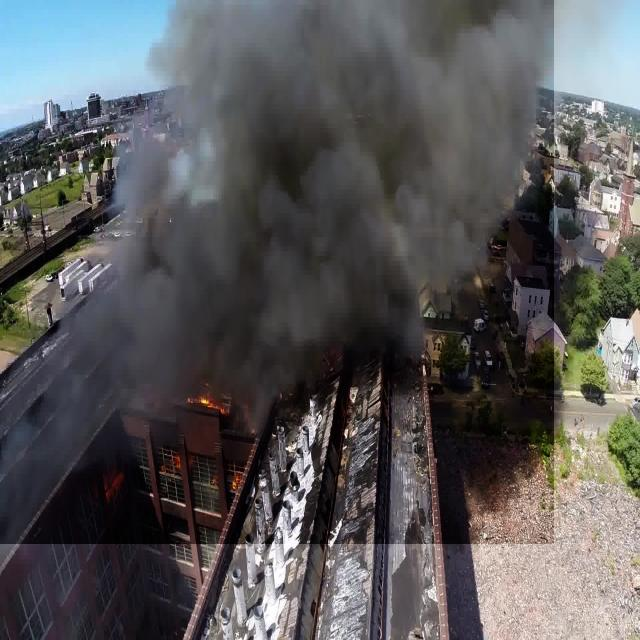Fire: (190, 389, 228, 422), (162, 448, 192, 483), (101, 462, 122, 502), (225, 467, 244, 494)
Smoke: (0, 0, 554, 544)
